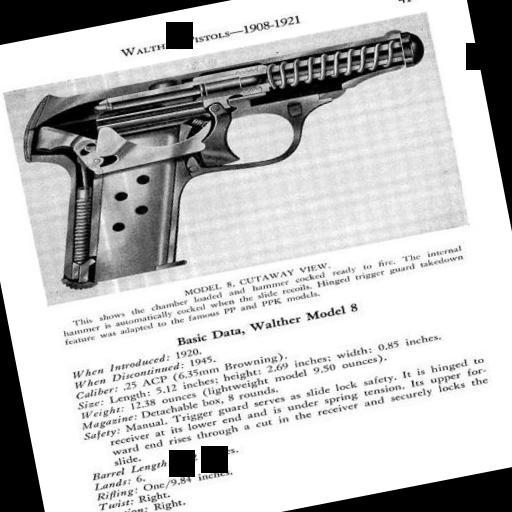Handgun: (10, 19, 456, 296)
